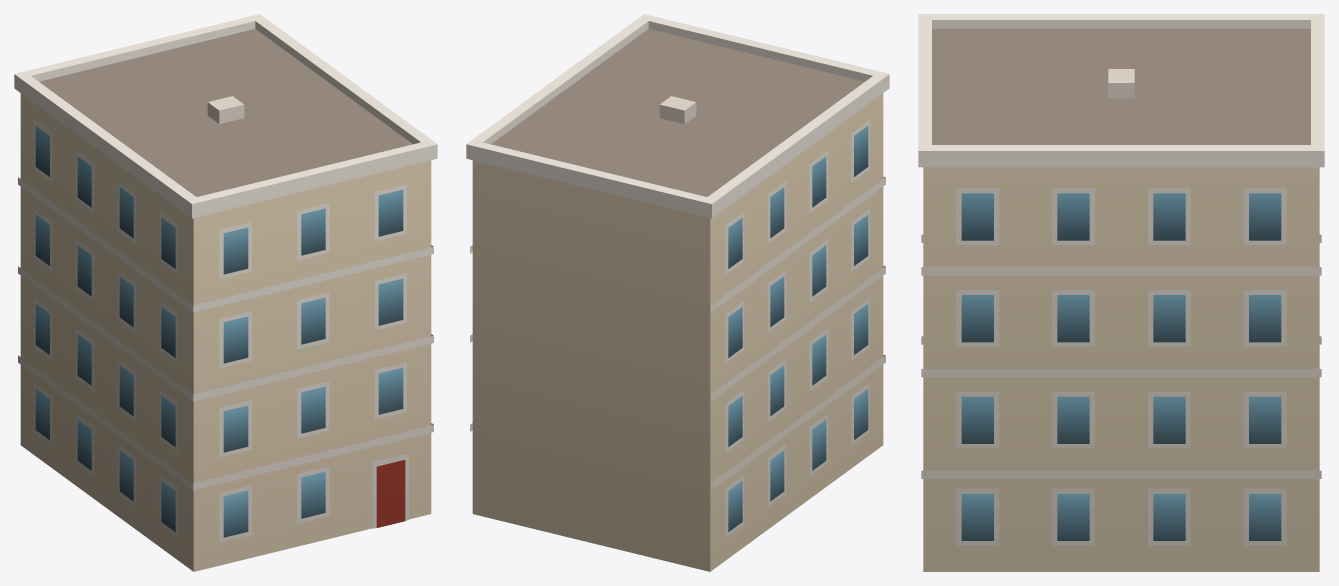
The model's file is vee_leftb1_far.glb.
The picture shows the model from 3 angles, left to right: view 1: azimuth 30°, elevation 25°; view 2: azimuth 150°, elevation 25°; view 3: azimuth 270°, elevation 25°; orthographic projection. The views are drawn at different scales.
Visible parts, largest first — view 1: vee_leftb1_far; view 2: vee_leftb1_far; view 3: vee_leftb1_far.
Boxes of the visible parts, x1,y1,x2,y2 form: vee_leftb1_far: (14,14,437,571); vee_leftb1_far: (466,14,889,571); vee_leftb1_far: (918,14,1324,571).
Size of the model in its own units: 9.82 by 14.37 by 12.32.
Materials: 1 (1 with a texture image).
